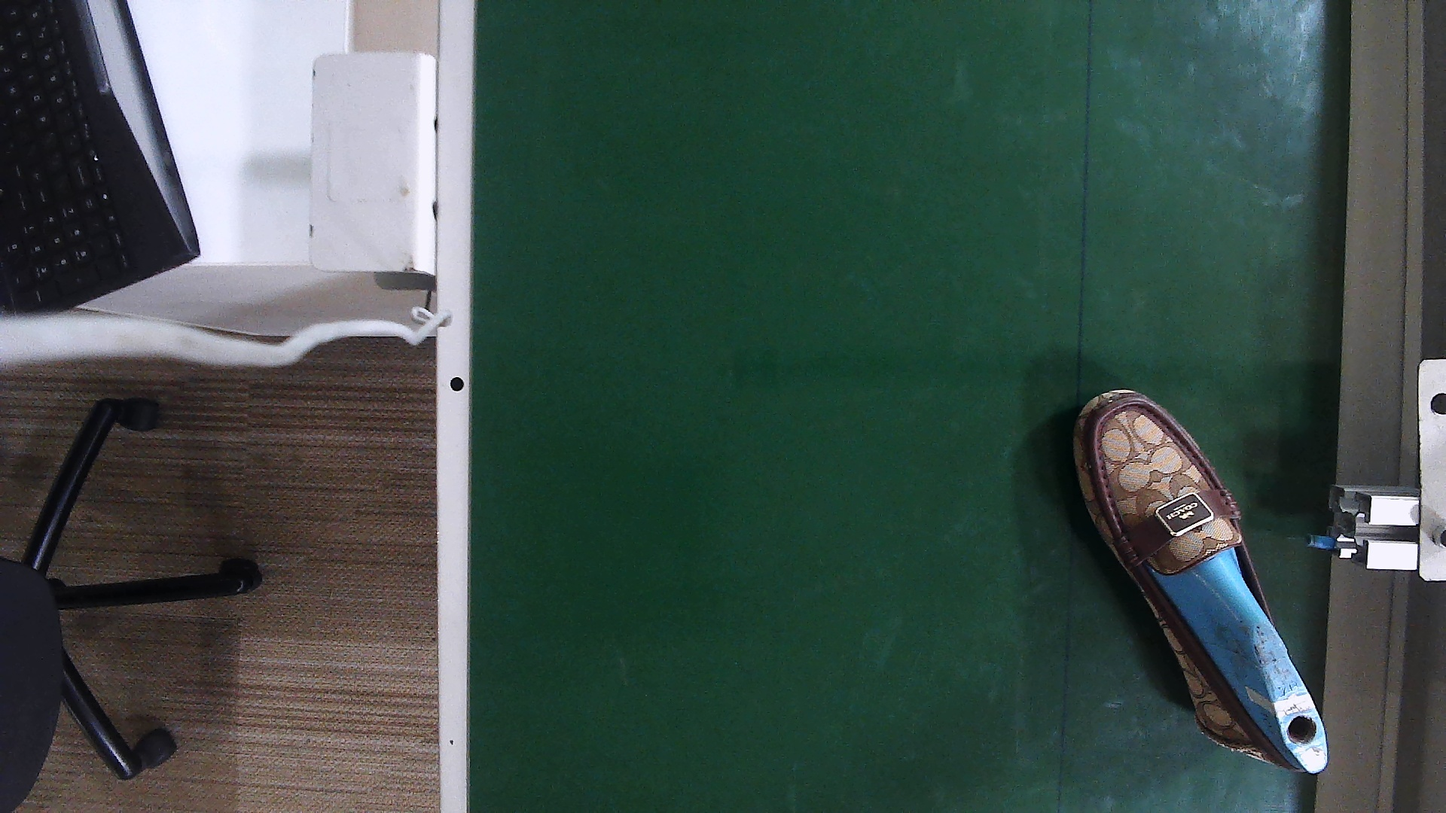shoe: (1081, 392, 1324, 773)
